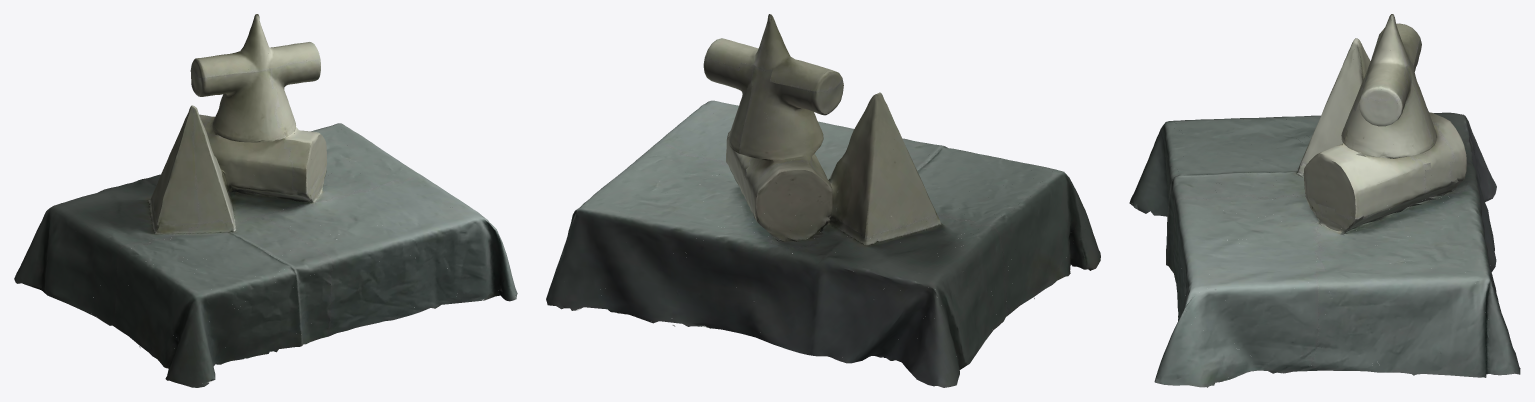
The model's file is 静物_几何体_锥体圆柱组合04_opt.glb.
3 views of the same model, side by side, from view 1: azimuth 30°, elevation 25°; view 2: azimuth 150°, elevation 25°; view 3: azimuth 270°, elevation 25° (orthographic). The views are drawn at different scales.
Visible parts, largest first — view 1: defaultMat, defaultMat_1; view 2: defaultMat, defaultMat_1; view 3: defaultMat, defaultMat_1.
Part boxes in pixels (x1=…): defaultMat: x1=14, y1=14, x2=517, y2=387; defaultMat_1: x1=26, y1=16, x2=517, y2=386; defaultMat: x1=546, y1=14, x2=1100, y2=387; defaultMat_1: x1=554, y1=19, x2=1087, y2=369; defaultMat: x1=1131, y1=14, x2=1520, y2=387; defaultMat_1: x1=1129, y1=17, x2=1512, y2=384.
Size of the model in its own units: 0.4595 by 0.3 by 0.3735.
Materials: 1 (1 with a texture image).
